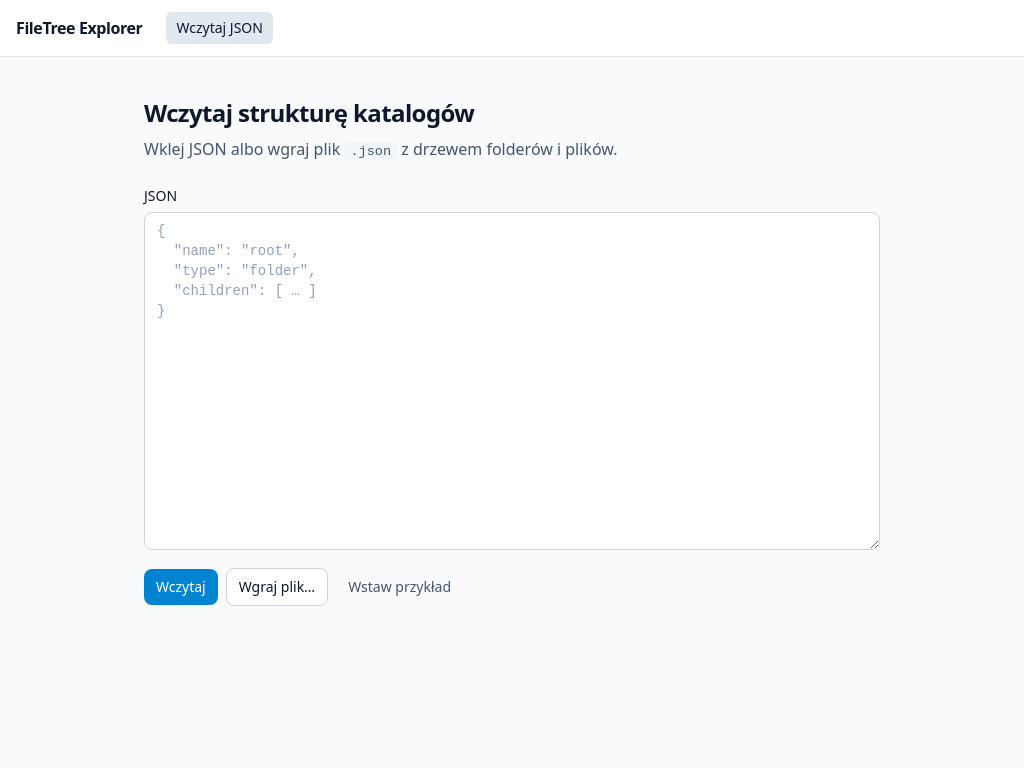
Test: routing › shows validation errors for invalid input
This screenshot has width=1024, height=768.
Note: Poprawny JSON, ale nie drzewo.
In the text box: (512, 381) 144,212 -> 880,550, type "[1]"
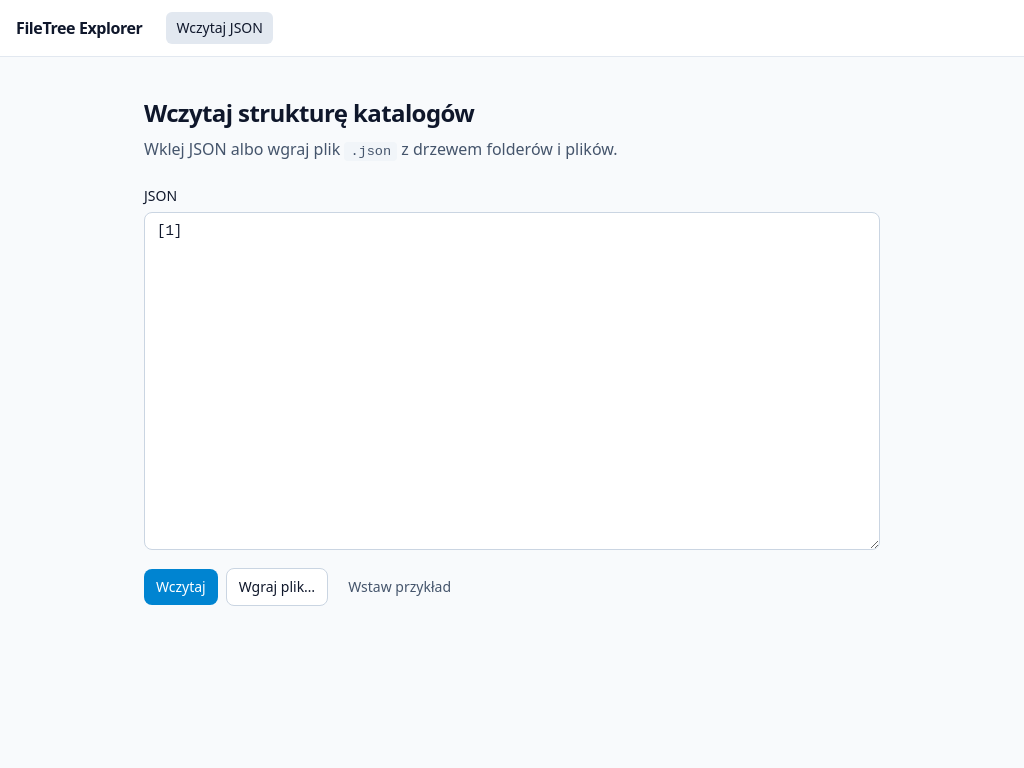
Click the button "Wczytaj": (181, 587) 144,569 -> 218,605
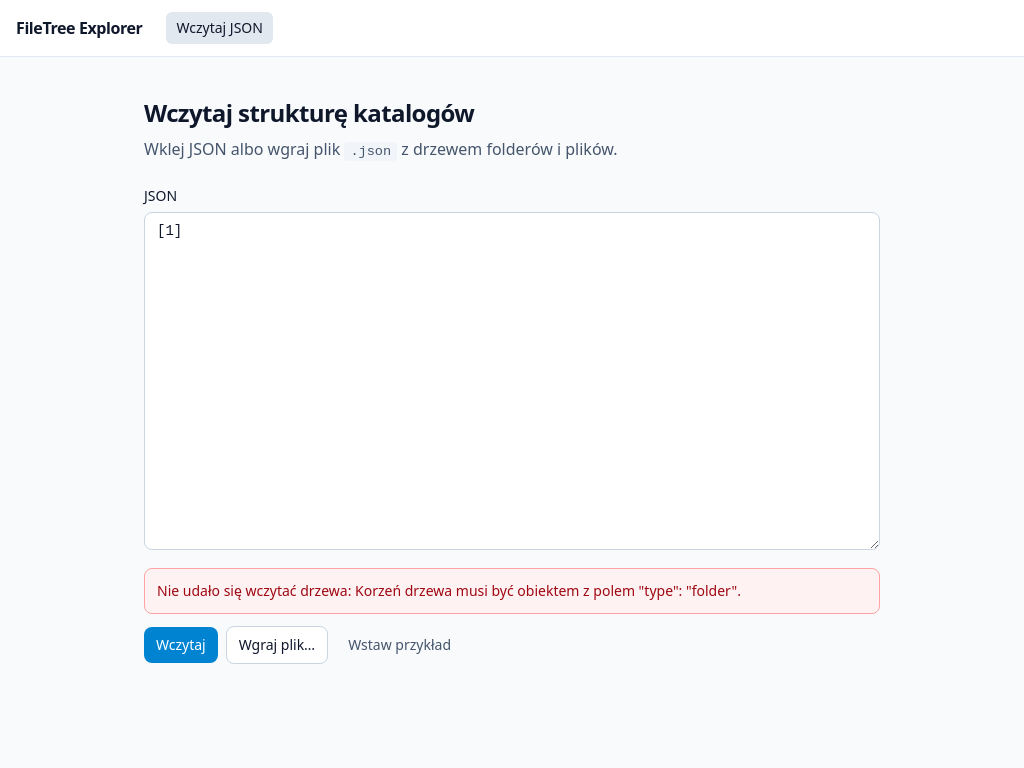
Now the message shows "Korzeń drzewa musi być obiektem", box 355,581 -> 741,600
